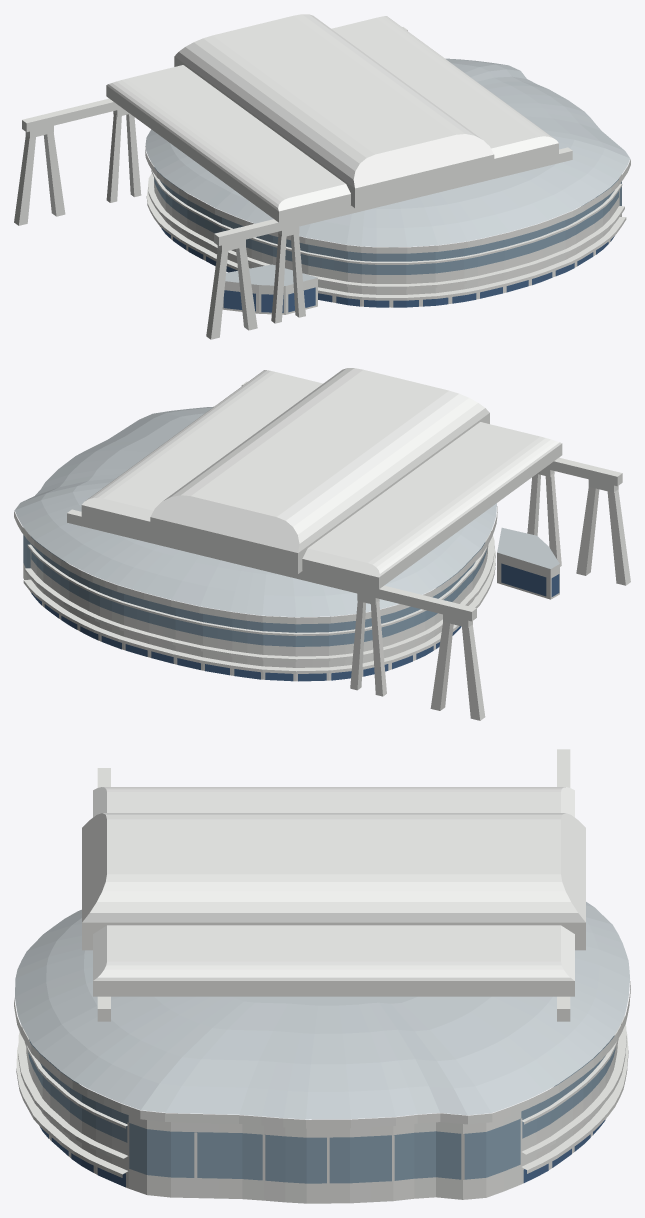
Rendered from mia-loandepot-park.glb.
3 views of the same model, one above another, from view 1: azimuth 30°, elevation 25°; view 2: azimuth 150°, elevation 25°; view 3: azimuth 270°, elevation 25° (orthographic). The views are drawn at different scales.
Parts seen in each view (by area): view 1: loanDepot park; view 2: loanDepot park; view 3: loanDepot park.
Part boxes in pixels (x1=…): loanDepot park: x1=14, y1=14, x2=630, y2=339; loanDepot park: x1=14, y1=368, x2=630, y2=720; loanDepot park: x1=14, y1=749, x2=630, y2=1203.
Size of the model in its own units: 277 by 78.9 by 223.
